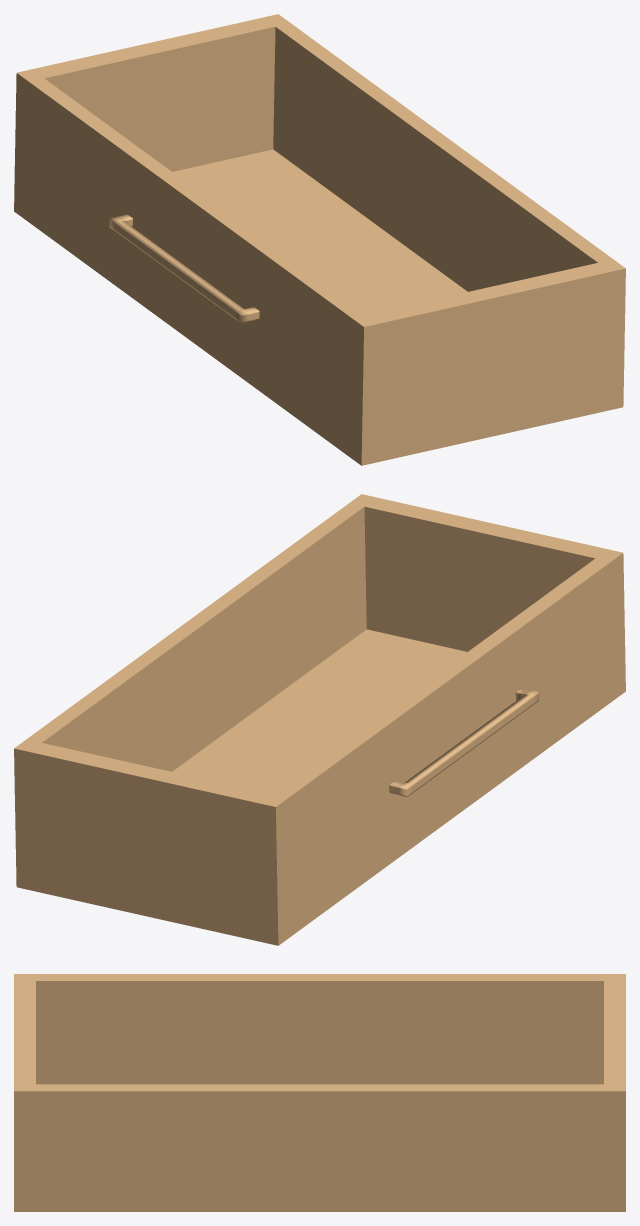
Rendered from Armariosuelo_cajón.fbx.
3 views of the same model, one above another, from view 1: azimuth 30°, elevation 25°; view 2: azimuth 150°, elevation 25°; view 3: azimuth 270°, elevation 25° (orthographic). The views are drawn at different scales.
Visible parts, largest first — view 1: Cube.039; view 2: Cube.039; view 3: Cube.039.
Boxes of the visible parts, left/top/right/bottom form: Cube.039: left=14, top=14, right=625, bottom=465; Cube.039: left=14, top=494, right=625, bottom=945; Cube.039: left=14, top=974, right=625, bottom=1211.
Size of the model in its own units: 8.65 by 4.22 by 18.53.
